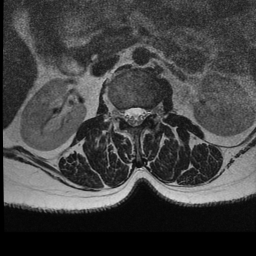CCS_normal: (131, 99, 138, 133)
LFS_stenosis: (146, 97, 153, 124)
LLS_normal: (138, 99, 146, 129)
RFS_normal: (116, 98, 123, 128)
RLS_normal: (123, 100, 131, 130)
